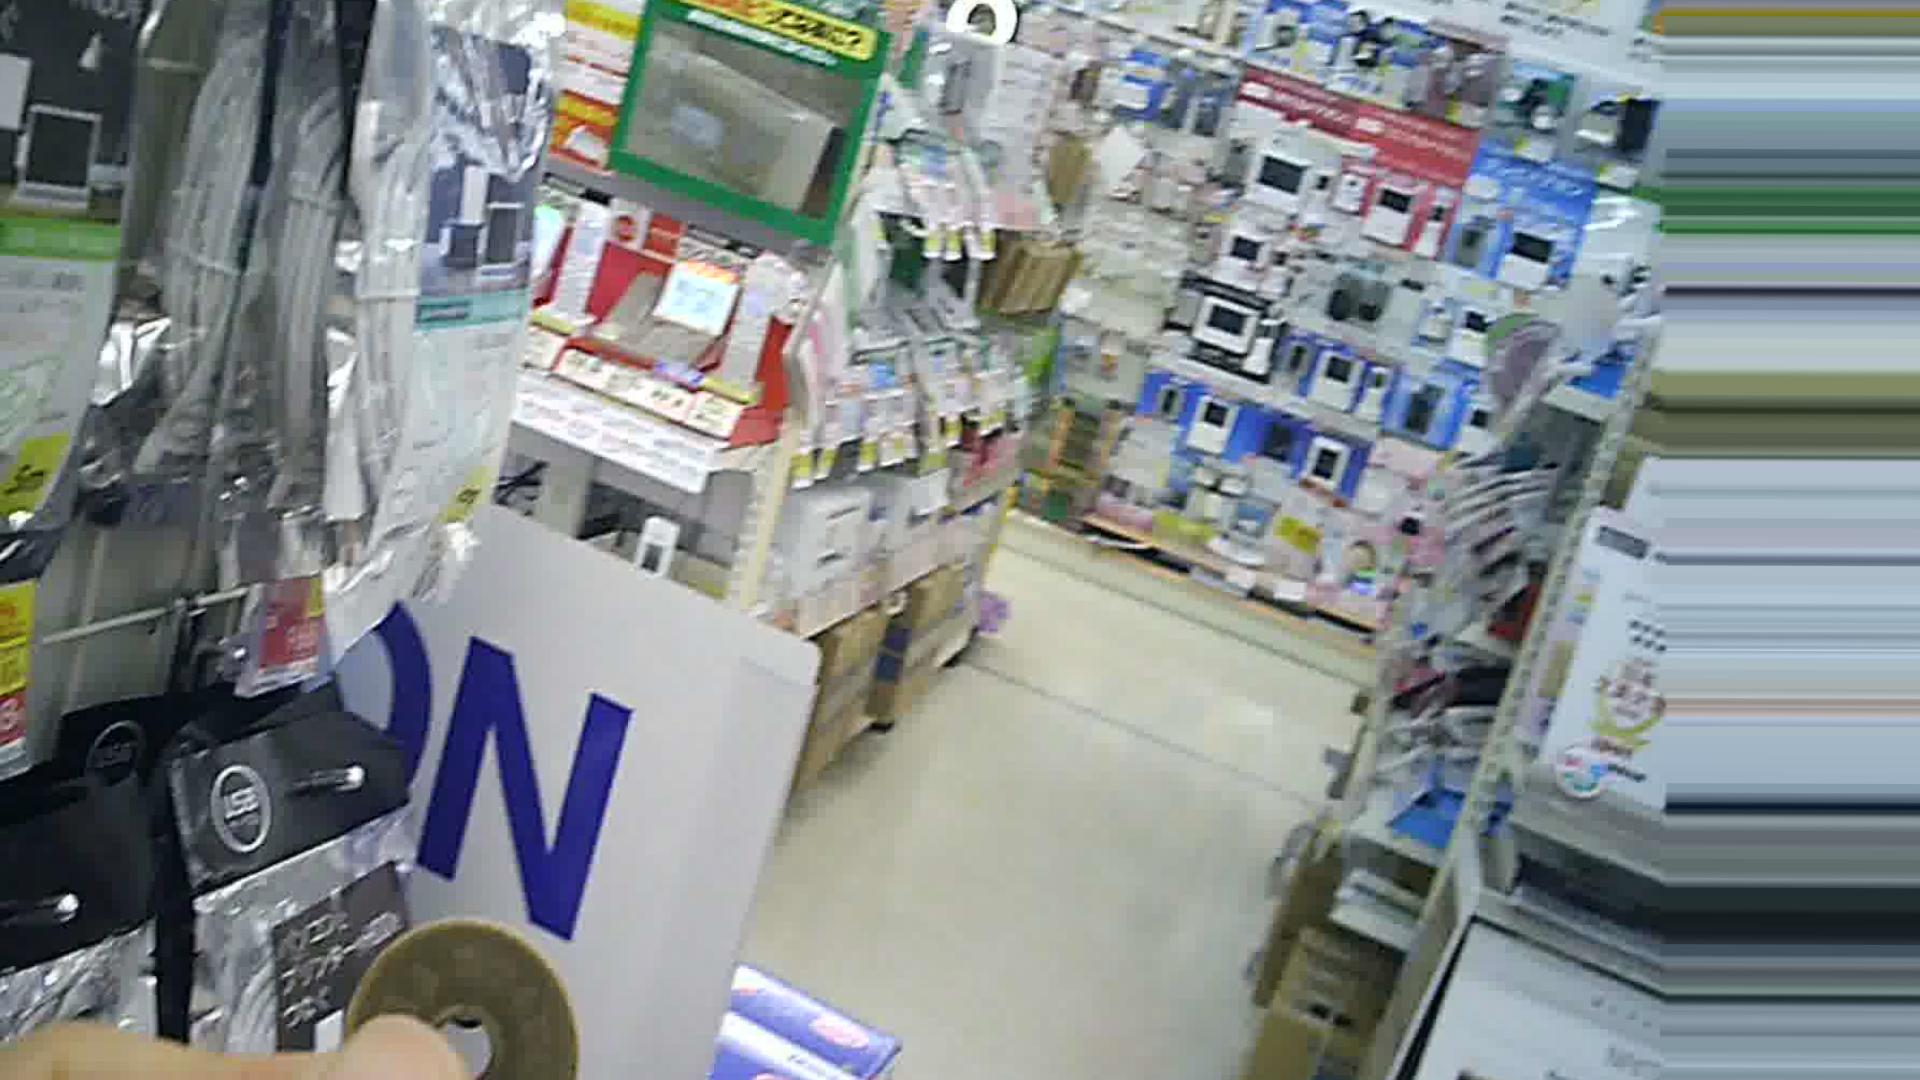5 Yen: (336, 902, 612, 1079)
